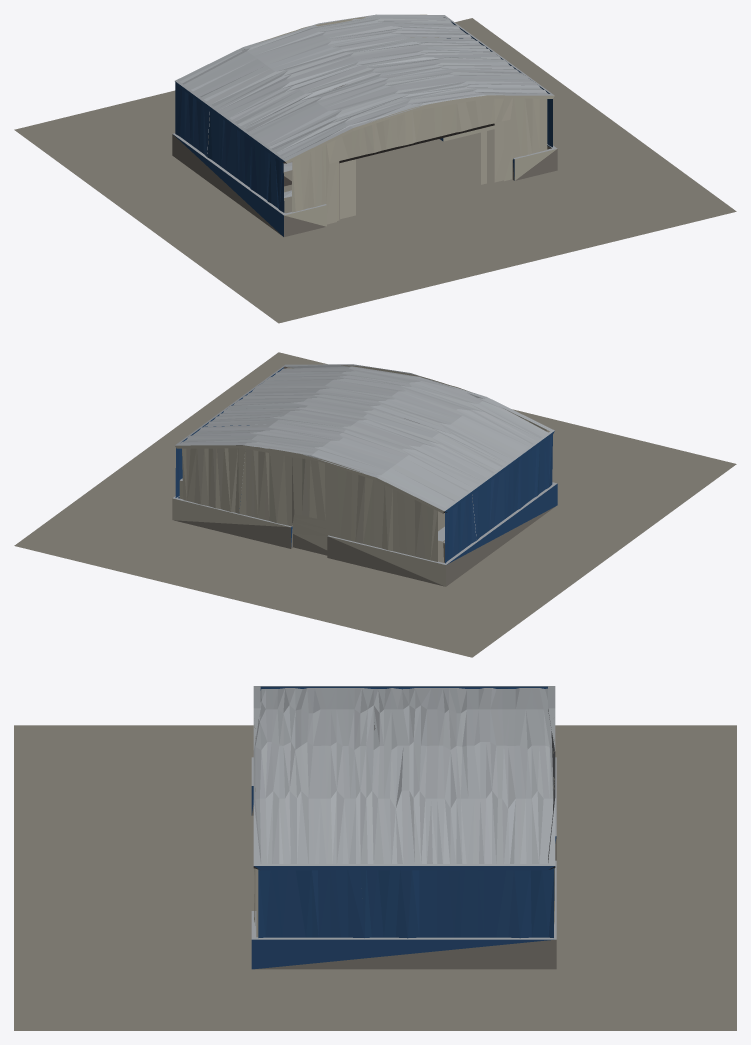
The model's file is hangar.zfix-v14.lod2.glb.
3 views of the same model, one above another, from view 1: azimuth 30°, elevation 25°; view 2: azimuth 150°, elevation 25°; view 3: azimuth 270°, elevation 25° (orthographic). The views are drawn at different scales.
Visible parts, largest first — view 1: Object_3; view 2: Object_3; view 3: Object_3.
Boxes of the visible parts, box(x1,y1,x2,y2) form: Object_3: box(14, 14, 736, 323); Object_3: box(14, 352, 736, 657); Object_3: box(14, 686, 736, 1030).
Bounding box in the file's own units: 62.35 × 12.66 × 62.35.
